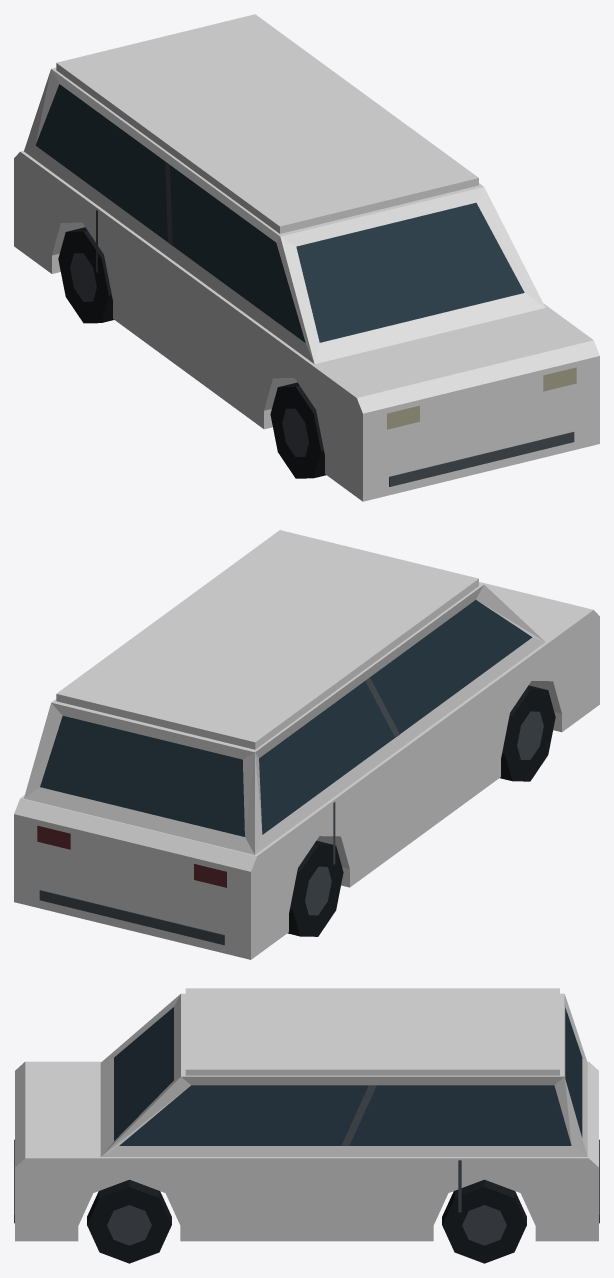
Rendered from minivan.glb.
3 views of the same model, one above another, from view 1: azimuth 30°, elevation 25°; view 2: azimuth 150°, elevation 25°; view 3: azimuth 270°, elevation 25° (orthographic). The views are drawn at different scales.
Visible parts, largest first — view 1: vehicle_body; view 2: vehicle_body; view 3: vehicle_body.
Part boxes in pixels (x1,y1,x2,y2): vehicle_body: (14, 14, 599, 501); vehicle_body: (14, 530, 599, 959); vehicle_body: (14, 988, 599, 1263).
Bounding box in the file's own units: 2 × 1.8 × 5.12.
